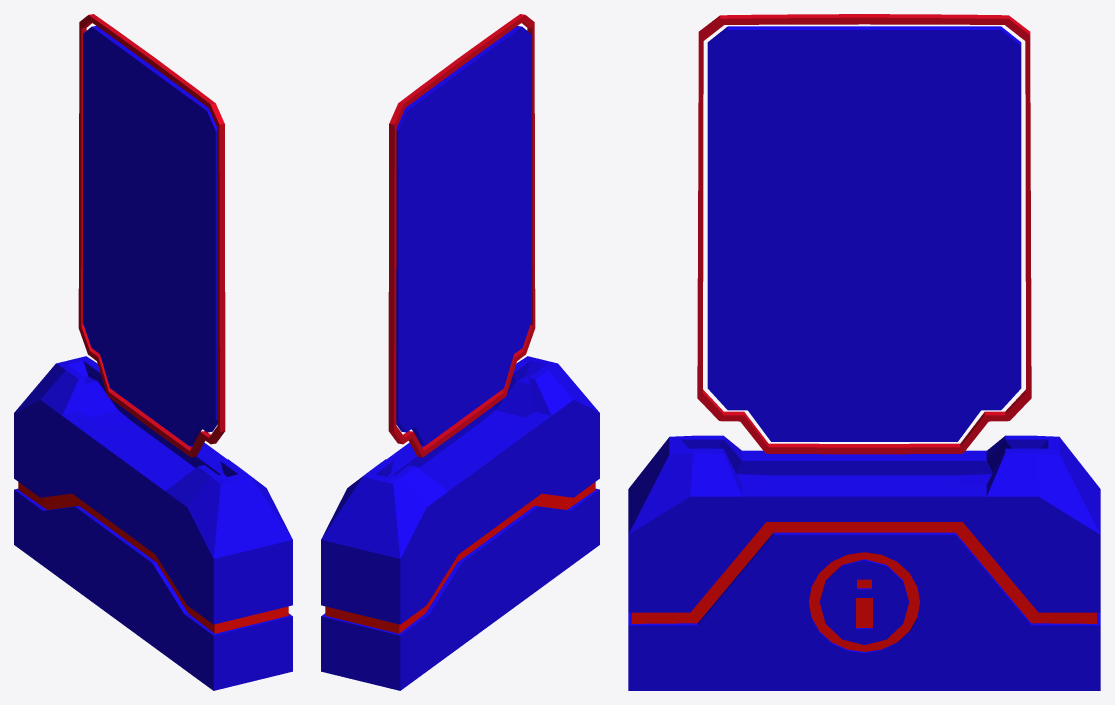
File: Lore Tab (Tut Room).fbx
3 renders of one model, left to right at view 1: azimuth 30°, elevation 25°; view 2: azimuth 150°, elevation 25°; view 3: azimuth 270°, elevation 25°, orthographic. The views are drawn at different scales.
Visible parts, largest first — view 1: Base, Screen, Screen Border; view 2: Base, Screen, Screen Border; view 3: Screen, Base, Screen Border.
Boxes of the visible parts, left/top/right/bottom form: Base: left=14, top=356, right=292, bottom=690; Screen: left=83, top=26, right=217, bottom=445; Screen Border: left=78, top=14, right=225, bottom=457; Base: left=321, top=356, right=599, bottom=690; Screen: left=396, top=26, right=530, bottom=445; Screen Border: left=388, top=14, right=535, bottom=457; Screen: left=707, top=26, right=1021, bottom=441; Base: left=628, top=435, right=1100, bottom=690; Screen Border: left=697, top=14, right=1031, bottom=454.
Size of the model in its own units: 36.94 by 245 by 161.
